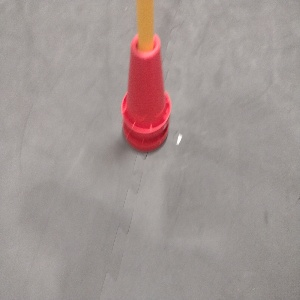Red_2: (112, 27, 173, 152)
